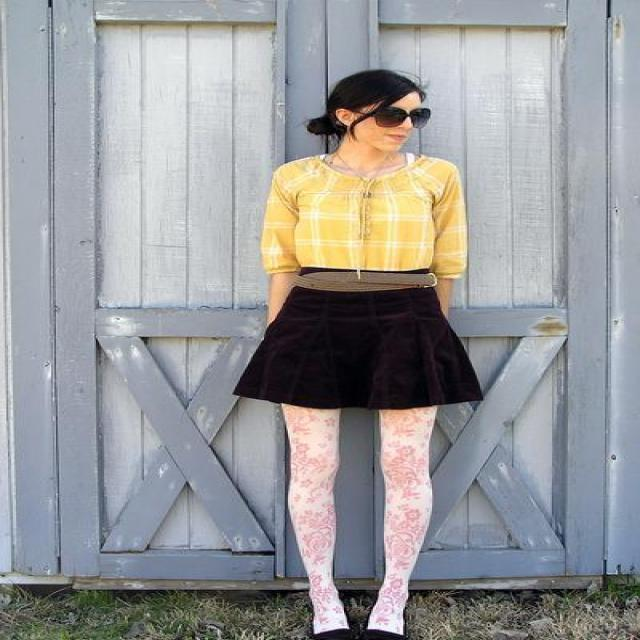shirt: (261, 153, 467, 292)
shoe: (326, 614, 402, 639)
skirt: (233, 268, 484, 409)
sunglass: (365, 98, 429, 126)
